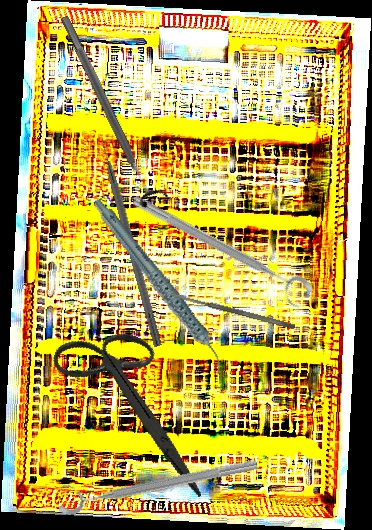Fixation Ring: (49, 9, 170, 211), (124, 190, 316, 313), (53, 443, 260, 517)
Handpiece: (90, 179, 227, 394)
Hook Surgical: (97, 131, 165, 348)
Iris Scissors: (25, 311, 246, 498)
Spatula Surgical: (170, 290, 296, 331)
